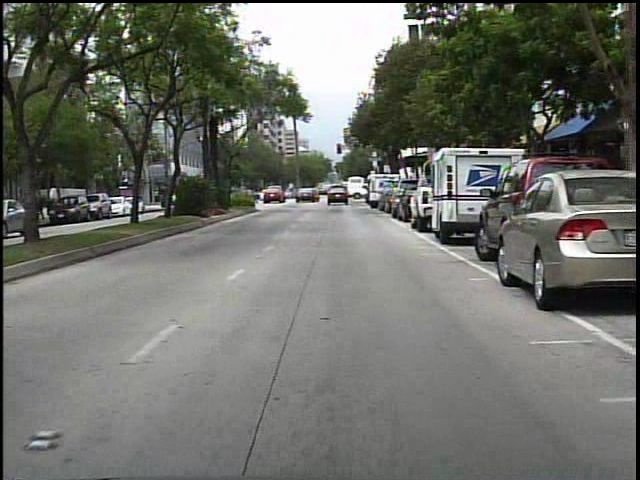person: (325, 183, 338, 203), (288, 183, 296, 201)
